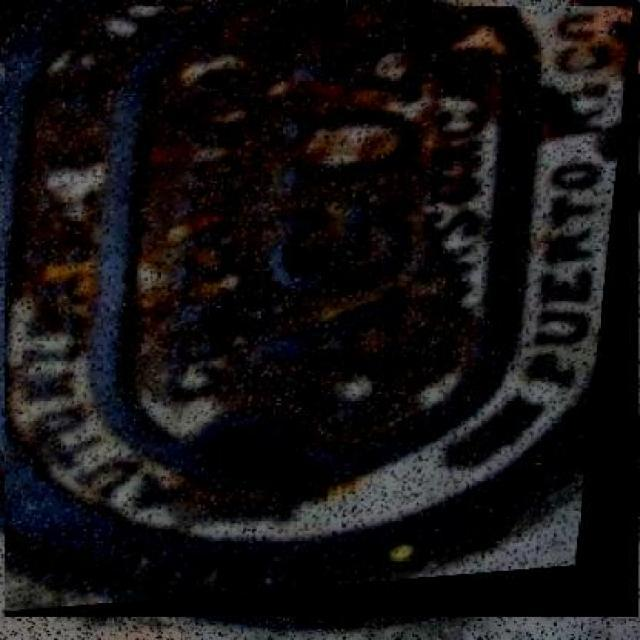Manhole: (4, 6, 638, 617)
